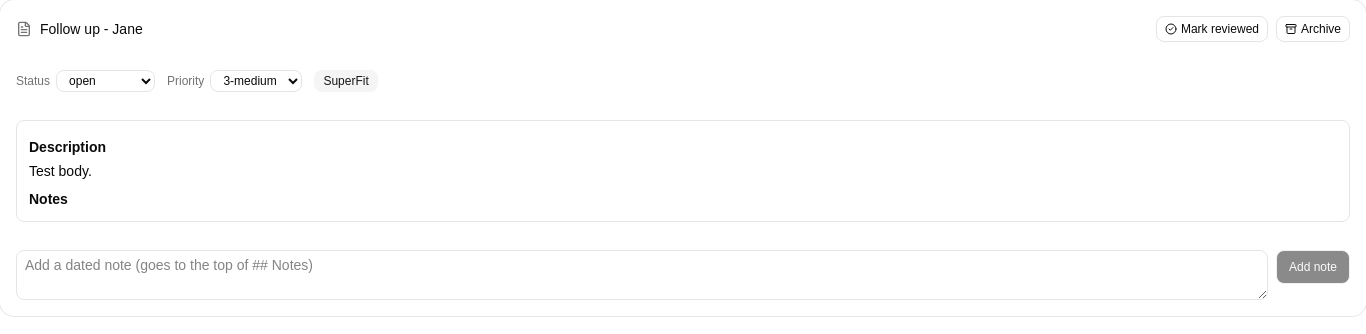
ArtifactReview — task-note › enables the Add note button only when the textarea has content
Expected: the button "Add note" is disabled, [1276,250,1350,284]
Type "a note" into the text box with placeholder "Add a dated note (goes to the top of ## Notes)" at coordinates (642, 275), box [16,250,1268,300]
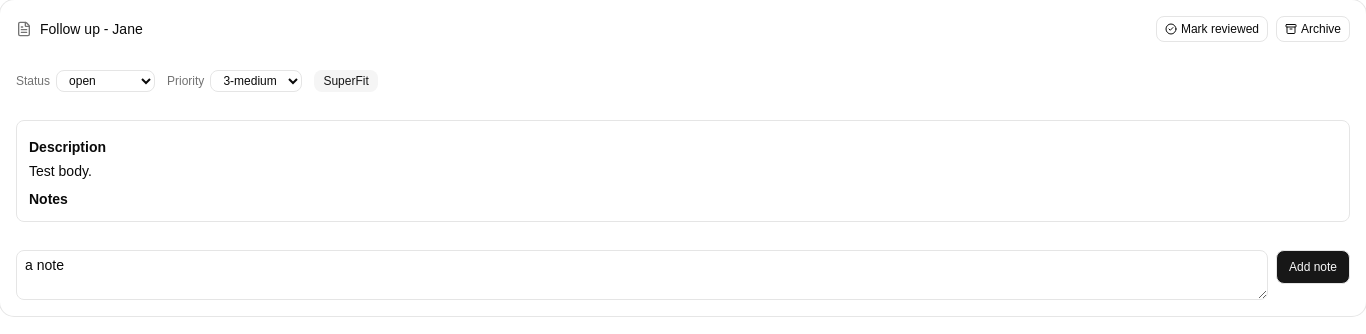
Now the button "Add note" is enabled, box [1276,250,1350,284]
